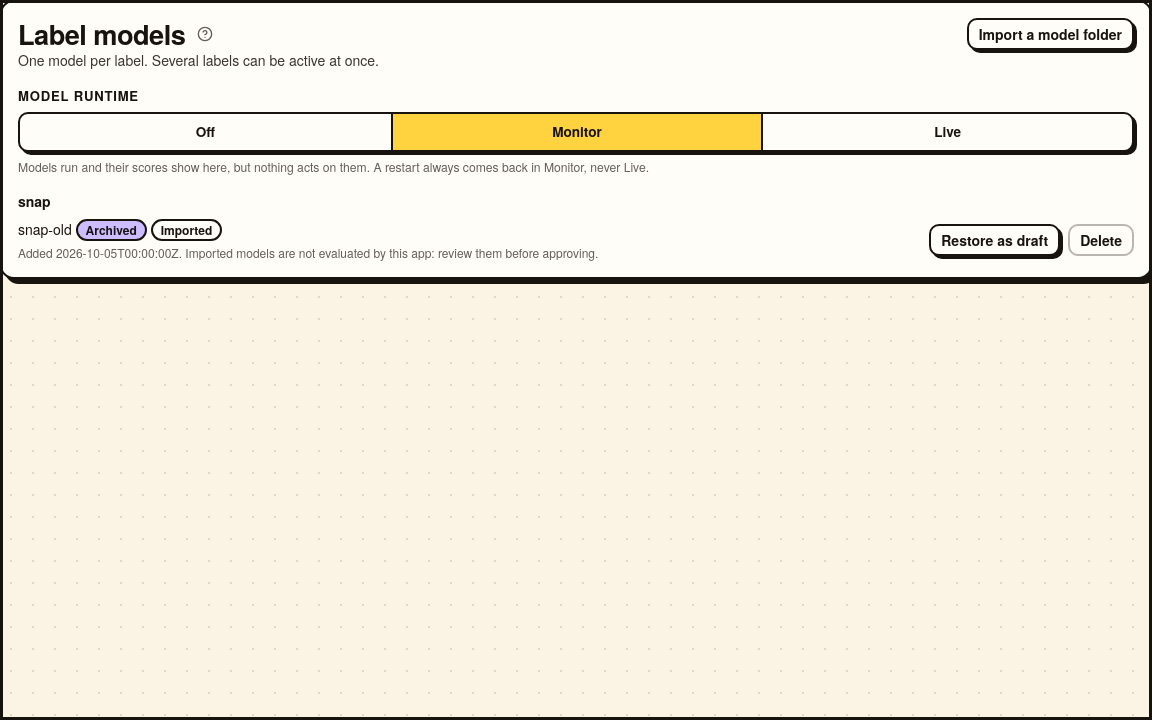
Test: LabelModelsPanel › shows why a delete was refused
Expected: the text "snap-old" is shown, left=18, top=219, right=72, bottom=239
Step 1. Click the button with aria-label "Delete snap-old" → [1101, 240], box left=1068, top=224, right=1134, bottom=256
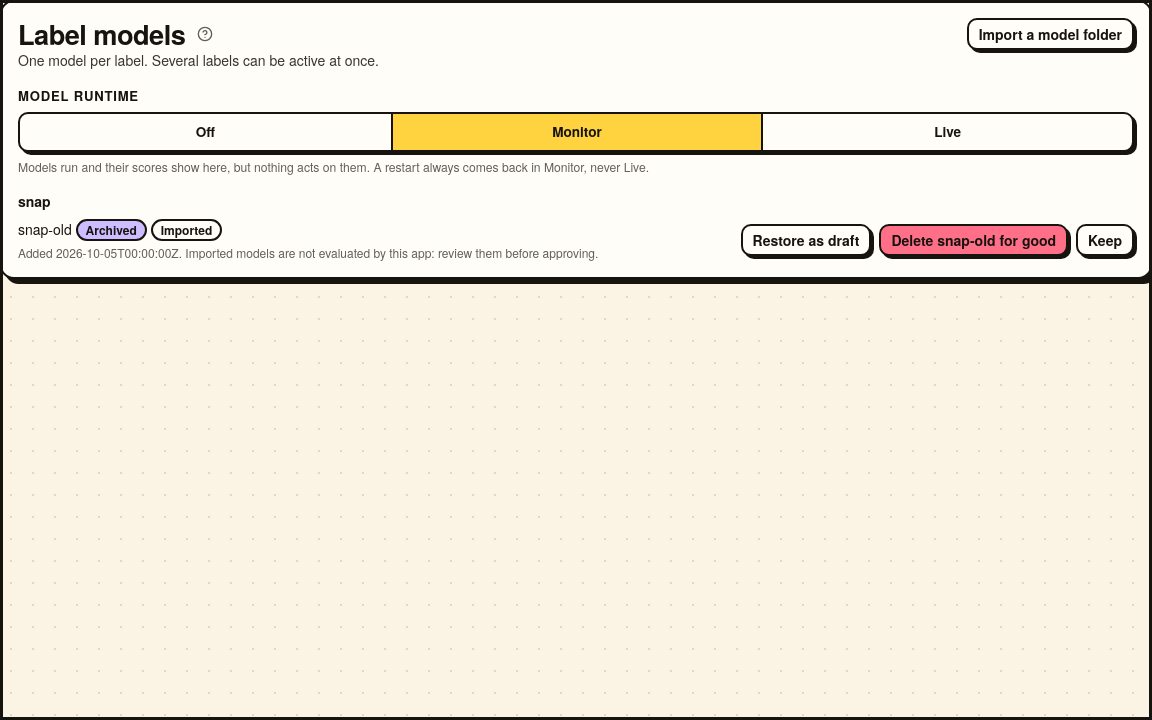
Step 2. Click the button "Delete snap-old for good" → [974, 240], box left=880, top=224, right=1068, bottom=256
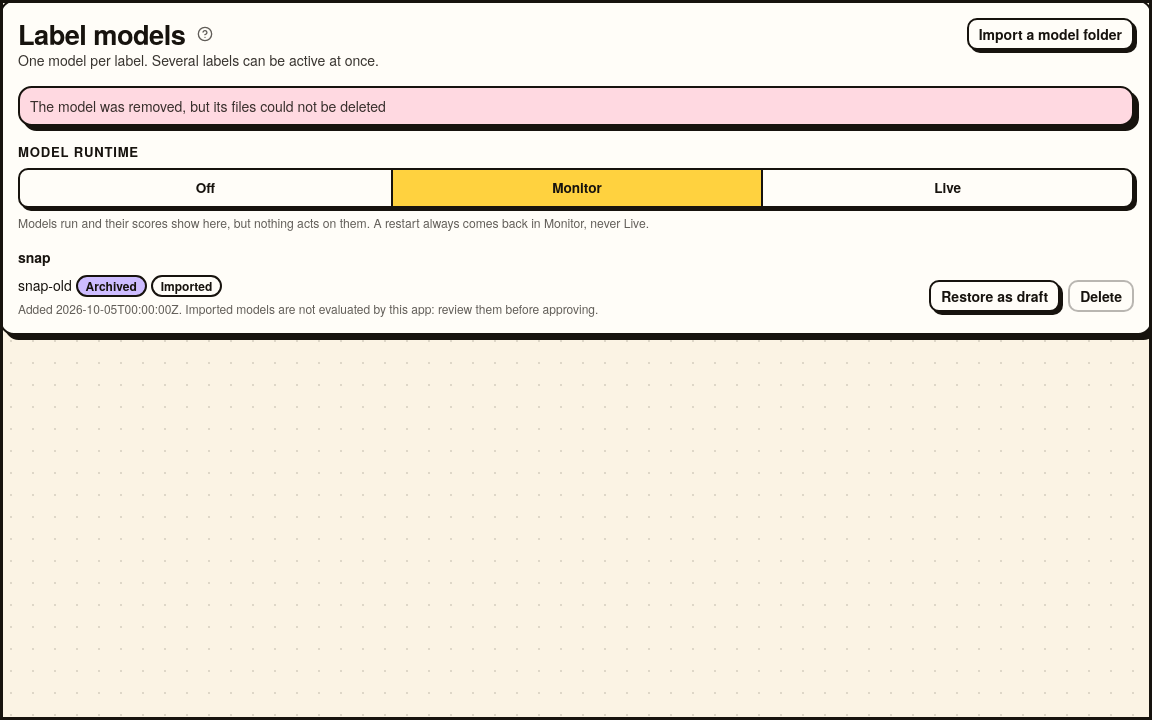
Now the text "The model was removed, but its files could not be deleted" is shown, box left=30, top=96, right=386, bottom=116
